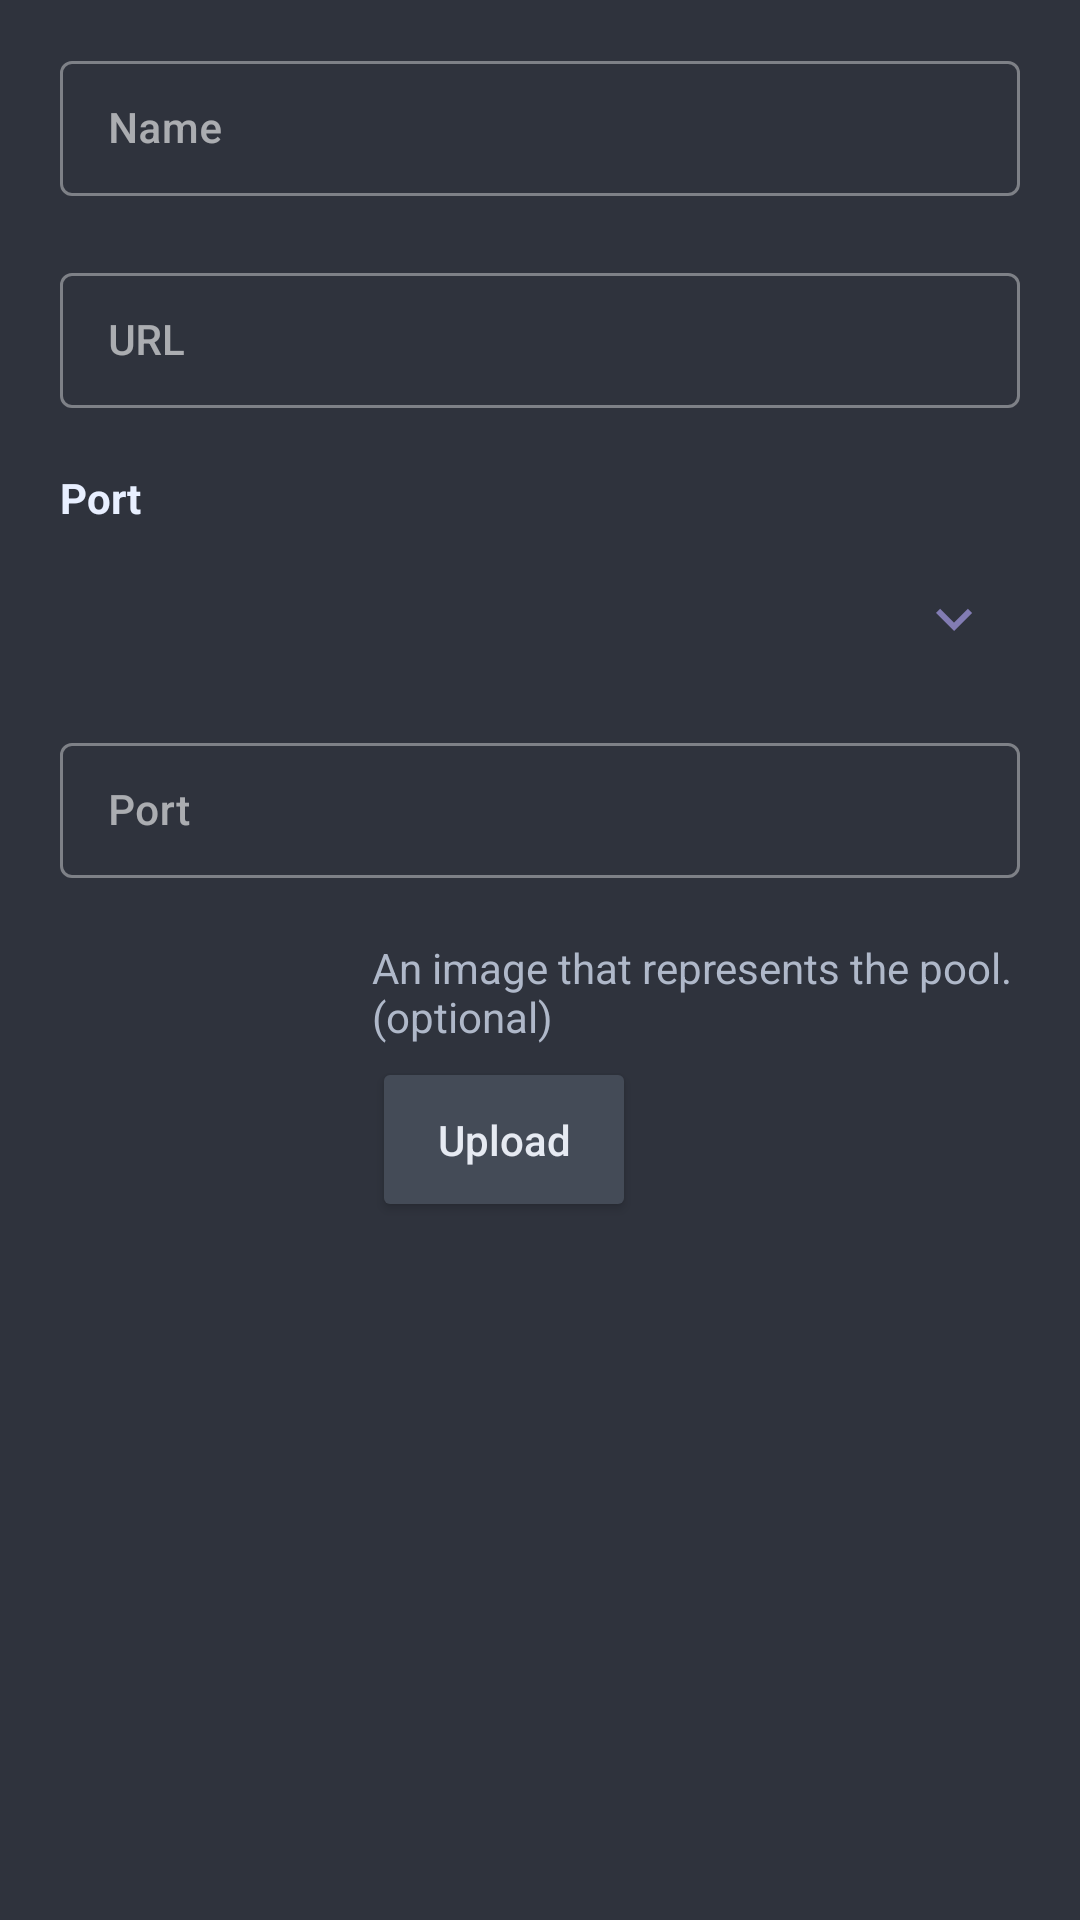

Icons on this 1080px x 1920px Android screen, each with its box as [x1, y1, x2, y2]:
down: [936, 609, 972, 631]
